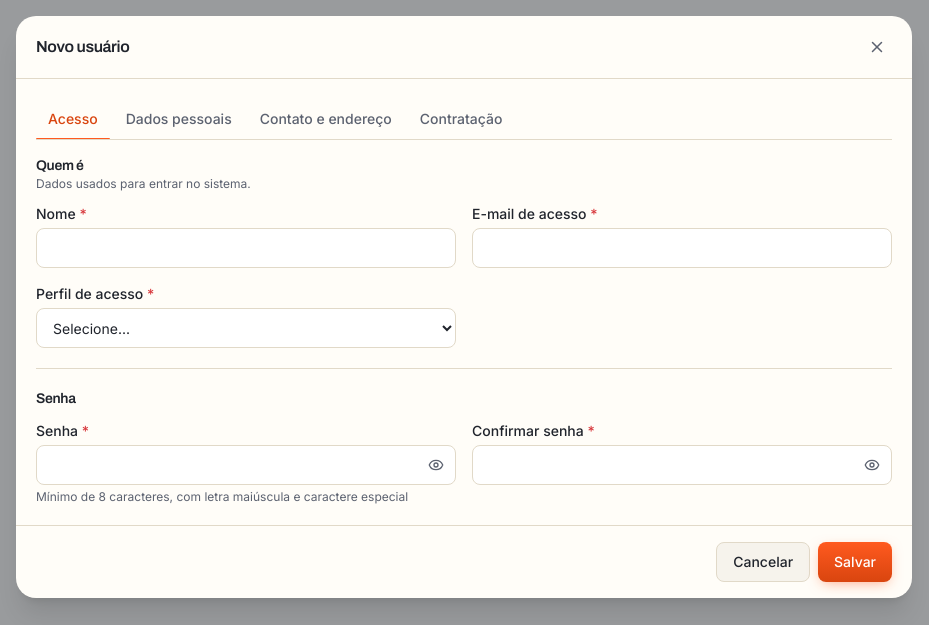
Test: UsuarioFormModal › limite de usuários excedido (409 LIMITE_USUARIOS_EXCEDIDO) › shows the backend message with an upgrade CTA instead of a generic toast
The width and height of the screenshot is (929, 625).
Type "Fernanda" into the field labelled "Nome *". click: [246, 248]
box: left=36, top=228, right=456, bottom=268
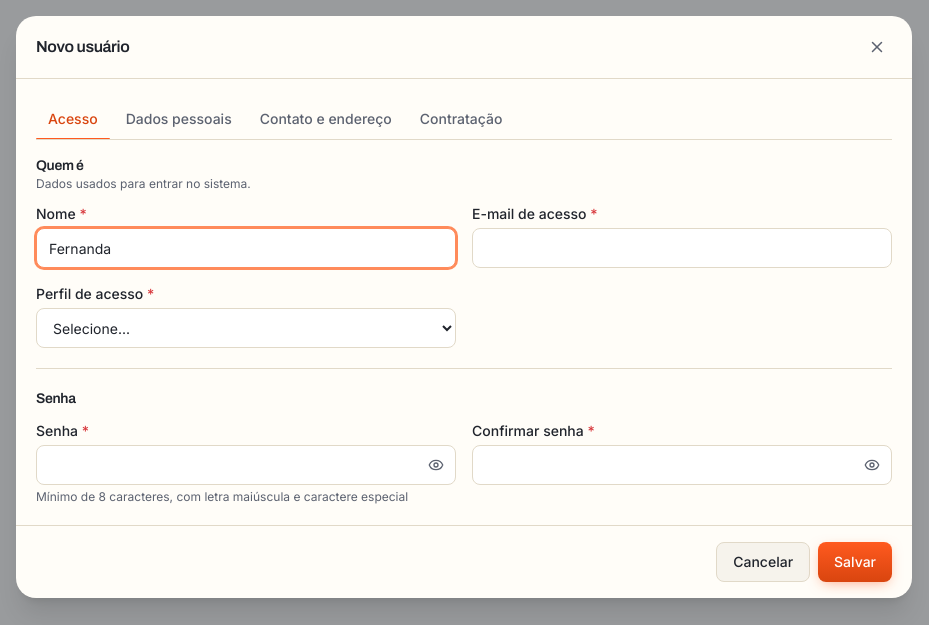
Type "fernanda@ramtec.com.br" into the field labelled "E-mail de acesso *". click: [682, 248]
box: left=472, top=228, right=892, bottom=268
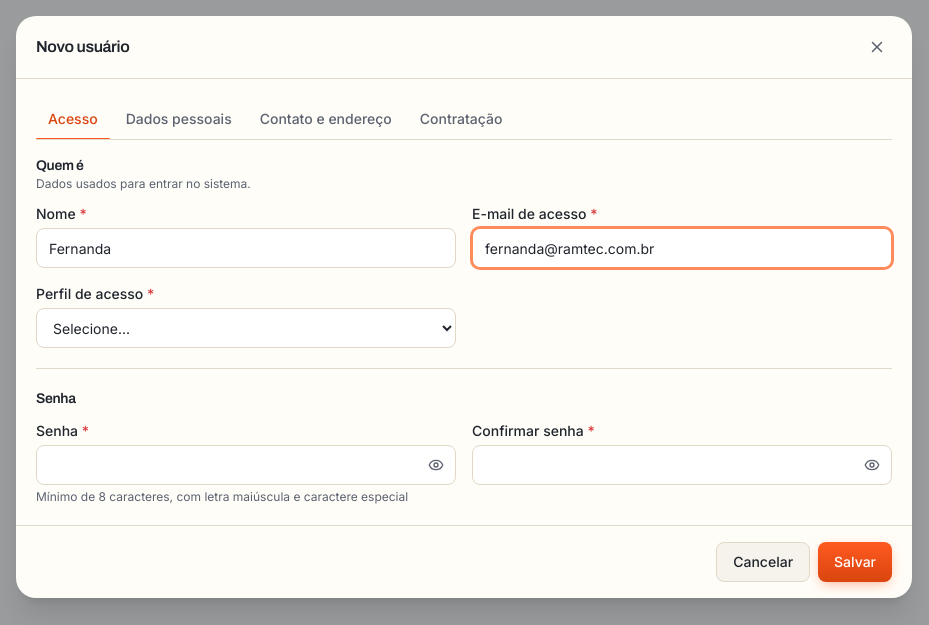
Select "Administrador" in the dropdown labelled "Perfil de acesso *". click: [246, 328]
box: left=36, top=308, right=456, bottom=348
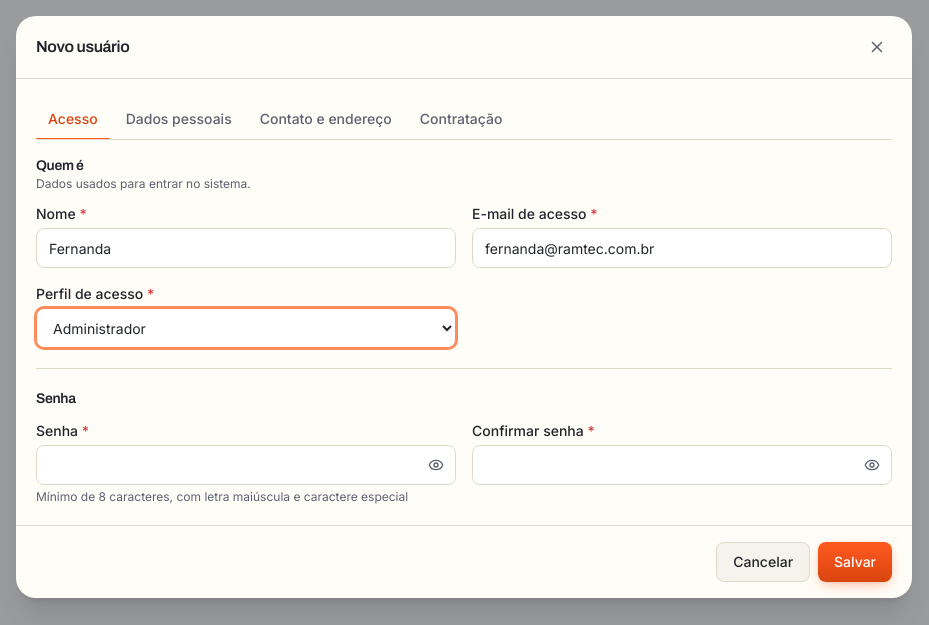
Type "Senha@123" into the password field labelled "Senha *". click: [246, 465]
box: left=36, top=445, right=456, bottom=485
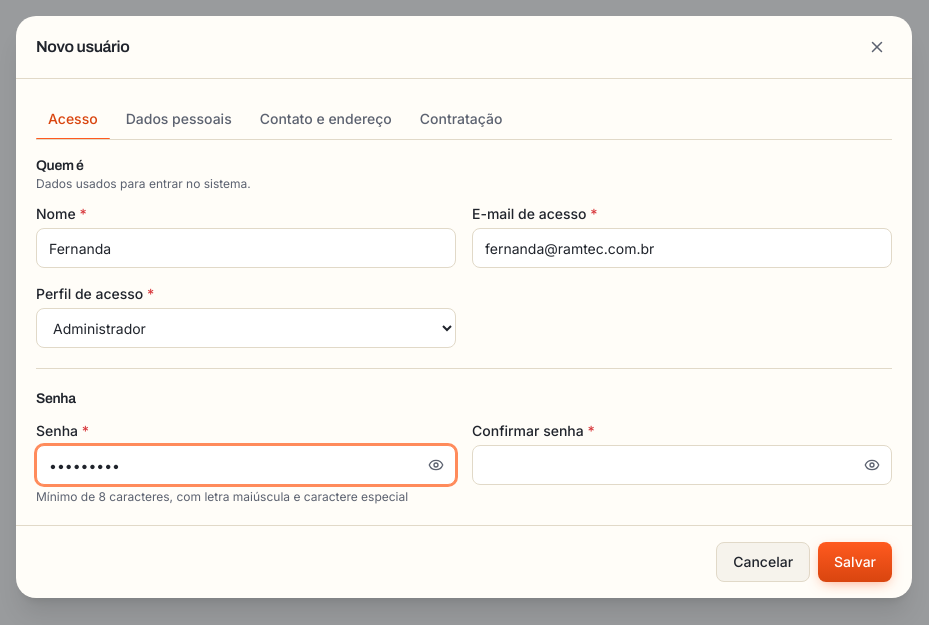
Type "Senha@123" into the password field labelled "Confirmar senha *". click: [682, 465]
box: left=472, top=445, right=892, bottom=485
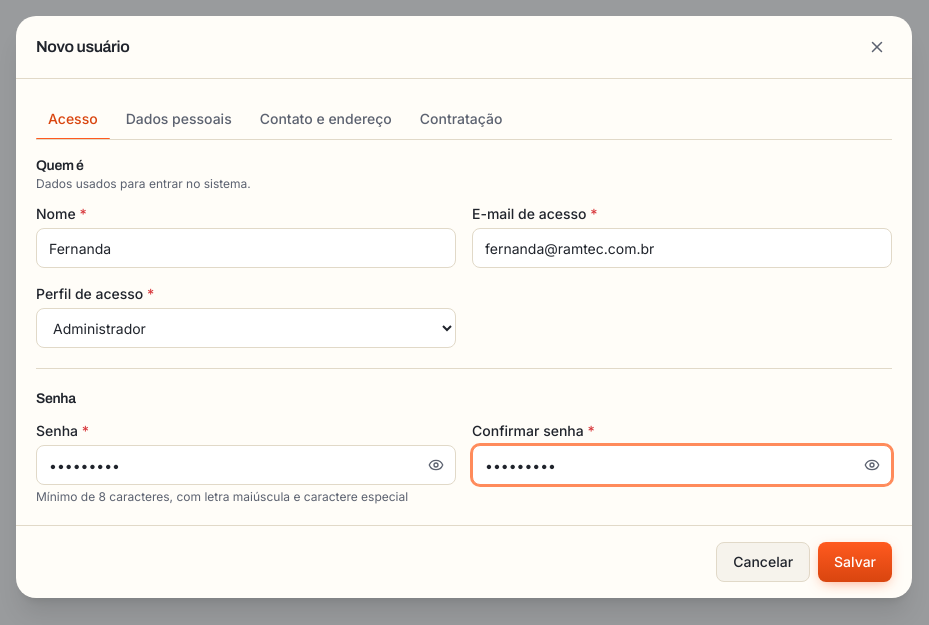
Click the button "Salvar". click: [855, 562]
box: left=818, top=542, right=892, bottom=582
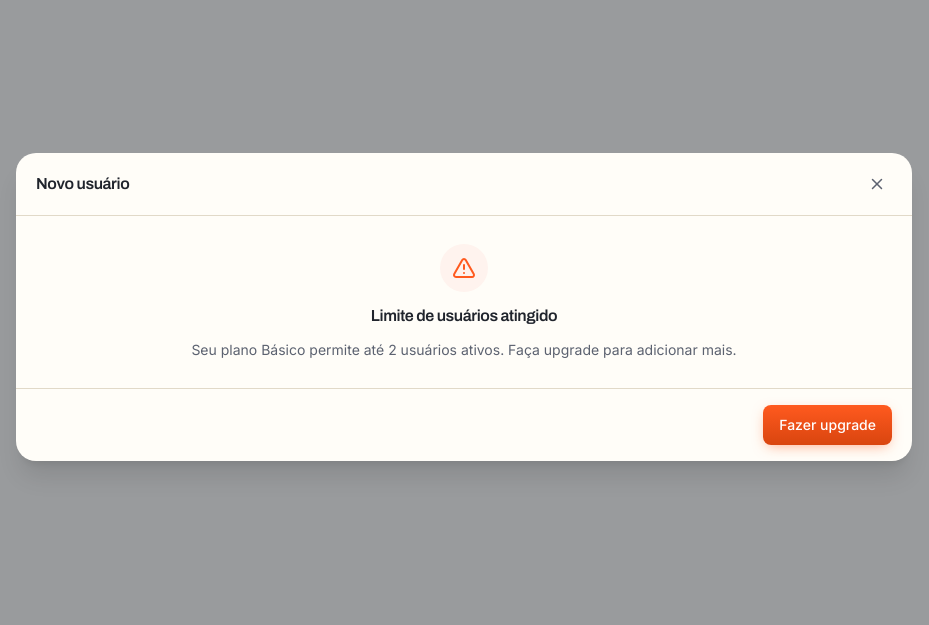
Now the heading "Limite de usuários atingido" is shown, box left=371, top=304, right=557, bottom=328
Now the text "Seu plano Básico permite até 2 usuários ativos. Faça upgrade para adicionar mais." is shown, box left=191, top=341, right=737, bottom=358
Now the label labelled "Nome" is gone
